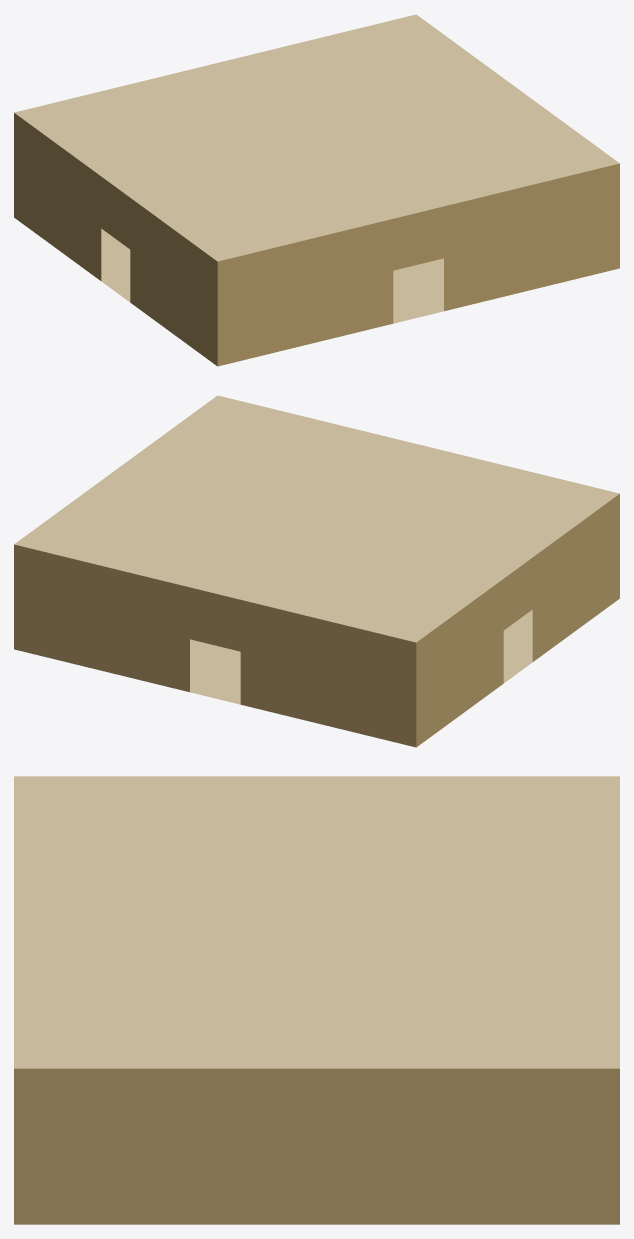
The model's file is Room004.fbx.
The picture shows the model from 3 angles, top to bottom: view 1: azimuth 30°, elevation 25°; view 2: azimuth 150°, elevation 25°; view 3: azimuth 270°, elevation 25°; orthographic projection. The views are drawn at different scales.
Parts seen in each view (by area): view 1: Cube; view 2: Cube; view 3: Cube.
Boxes of the visible parts, bbox=[...] form: Cube: bbox=[14, 14, 619, 366]; Cube: bbox=[14, 395, 619, 747]; Cube: bbox=[14, 776, 619, 1224].
Size of the model in its own units: 3178 by 792 by 2786.
